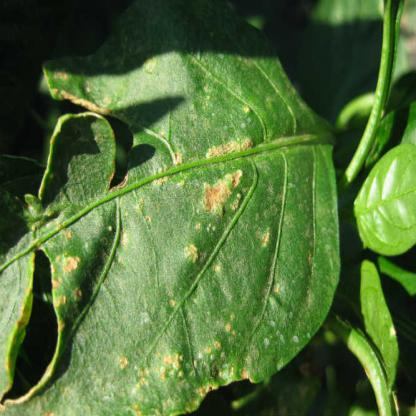bell pepper leaf spot: (2, 24, 346, 415)
